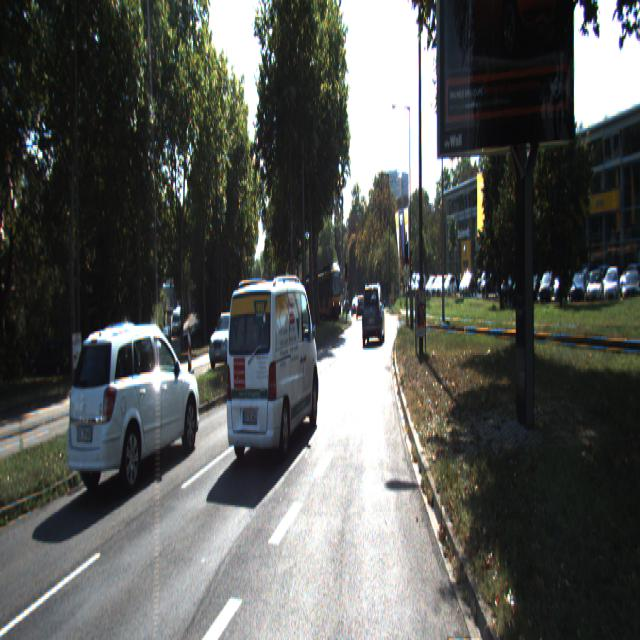Car: (64, 310, 202, 501), (224, 268, 321, 464), (78, 321, 147, 423), (208, 309, 246, 365), (308, 267, 342, 322), (362, 282, 385, 348)
